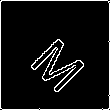M_NE: (21, 21, 89, 89)
